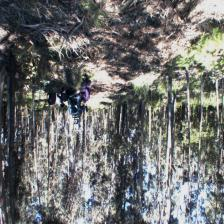trunktrack_idkeyframe: (7, 58, 15, 162), (168, 76, 174, 146)
